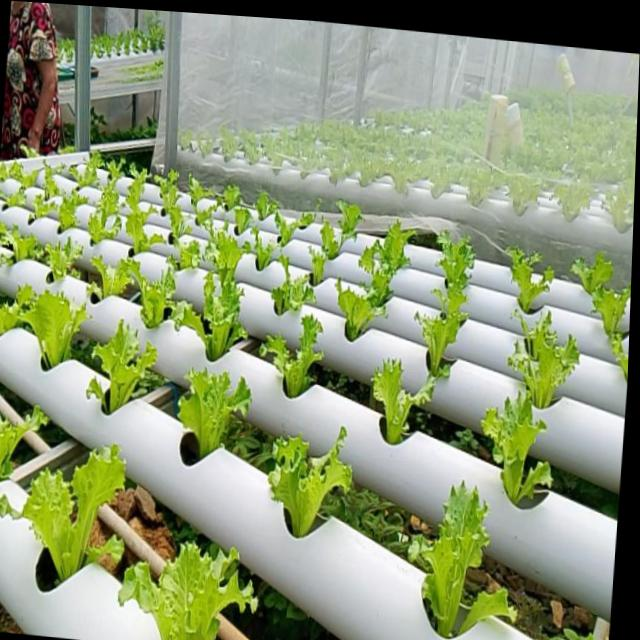Baby: (0, 441, 121, 576), (115, 539, 253, 640), (405, 480, 483, 636), (264, 426, 348, 537), (411, 232, 469, 384), (475, 392, 545, 504), (174, 368, 247, 465), (503, 311, 573, 408), (88, 319, 153, 414), (17, 284, 87, 367), (368, 359, 430, 444), (256, 315, 319, 397), (115, 257, 180, 330), (355, 221, 410, 307), (584, 282, 630, 356), (257, 256, 311, 316), (83, 161, 121, 243), (331, 280, 382, 341), (502, 248, 548, 314), (199, 224, 246, 287), (64, 150, 97, 186), (54, 187, 81, 229), (190, 198, 213, 230), (174, 239, 196, 269), (38, 161, 55, 198)
